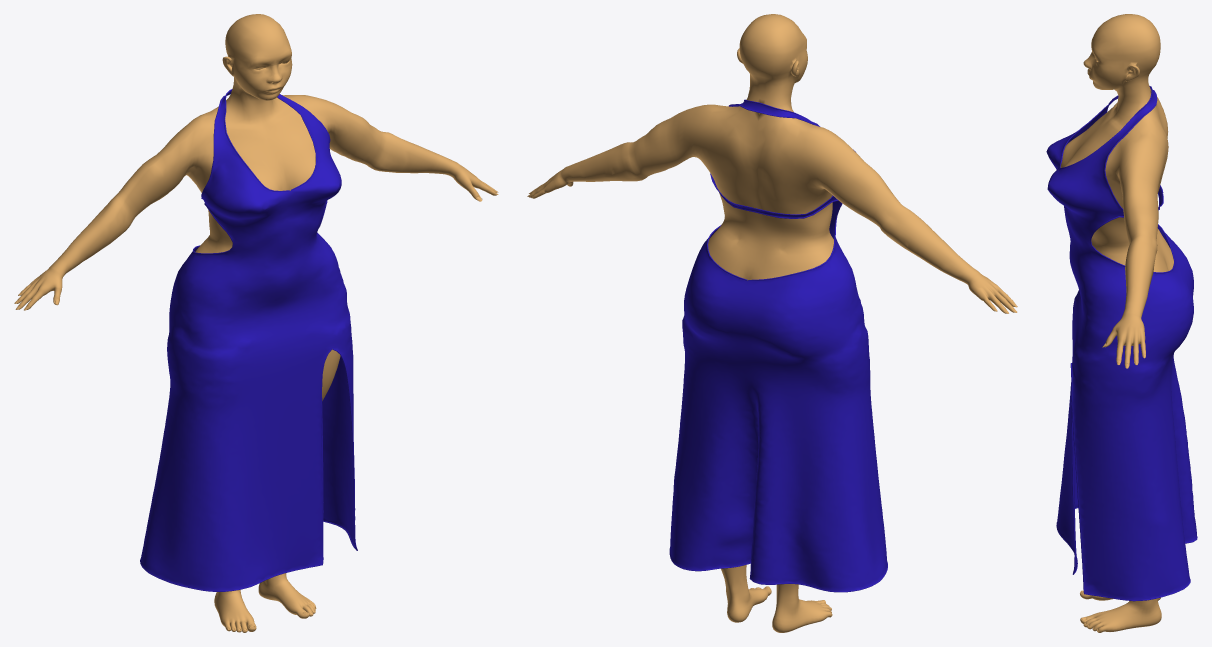
The model's file is dress9.glb.
3 renders of one model, left to right at view 1: azimuth 30°, elevation 25°; view 2: azimuth 150°, elevation 25°; view 3: azimuth 270°, elevation 25°, orthographic.
Parts seen in each view (by area): view 1: EveningDress, Body; view 2: EveningDress, Body; view 3: EveningDress, Body.
Boxes of the visible parts, x1,y1,x2,y2 form: EveningDress: (140,89,357,591); Body: (17,14,497,632); EveningDress: (669,99,887,592); Body: (529,14,1014,632); EveningDress: (1046,86,1197,601); Body: (1060,14,1173,632).
Size of the model in its own units: 1.58 by 1.85 by 0.4261.
